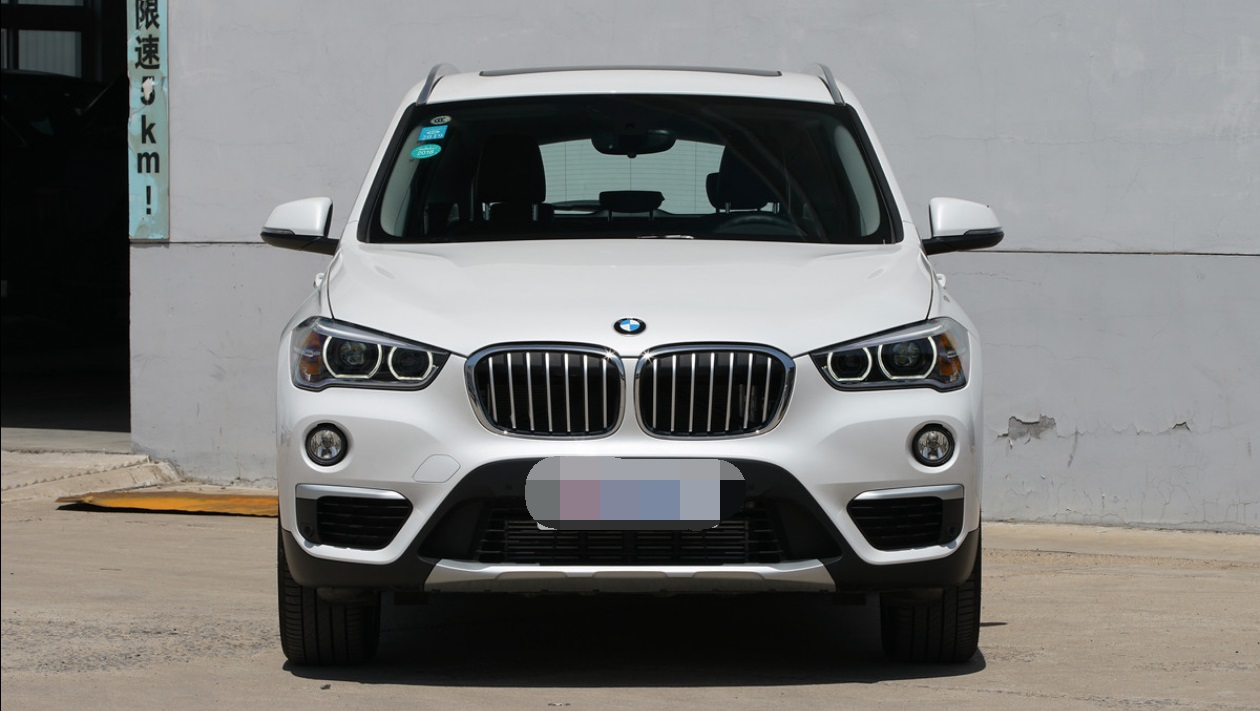SUV: (254, 59, 1009, 678)
